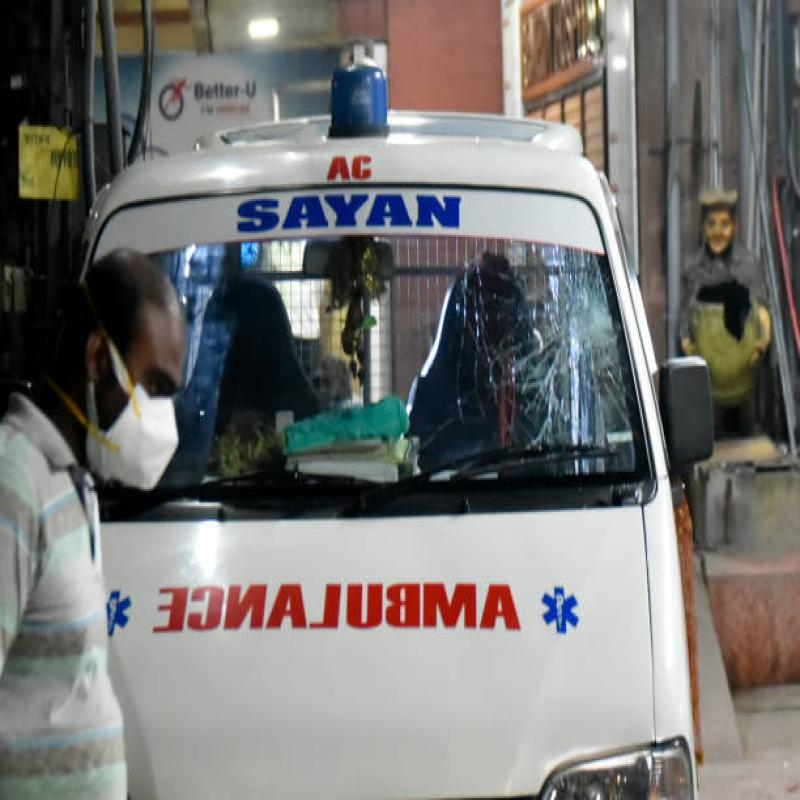ambulance: (100, 76, 726, 800)
